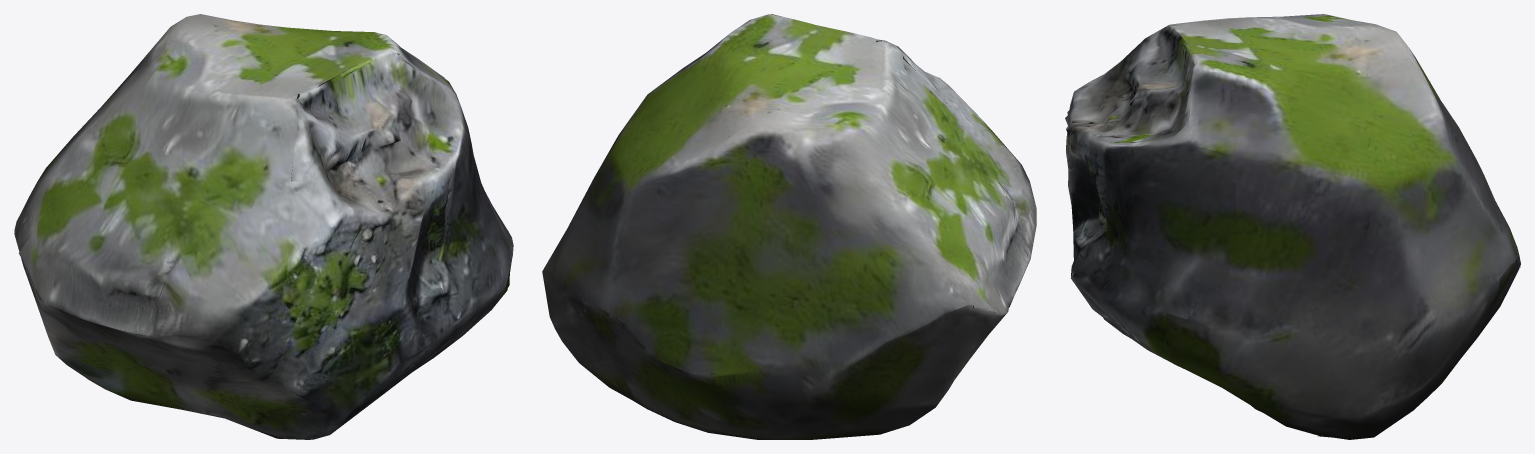
The model's file is boulder.glb.
The picture shows the model from 3 angles, left to right: view 1: azimuth 30°, elevation 25°; view 2: azimuth 150°, elevation 25°; view 3: azimuth 270°, elevation 25°; orthographic projection. The views are drawn at different scales.
Parts seen in each view (by area): view 1: model; view 2: model; view 3: model.
Part boxes in pixels (bbox=[...]): model: bbox=[14, 14, 513, 439]; model: bbox=[542, 14, 1036, 439]; model: bbox=[1065, 14, 1520, 439].
Size of the model in its own units: 1.28 by 1 by 1.21.
Materials: 1 (1 with a texture image).
